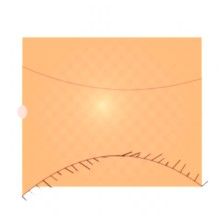pinguecula_lesion: (36, 104, 68, 129)
